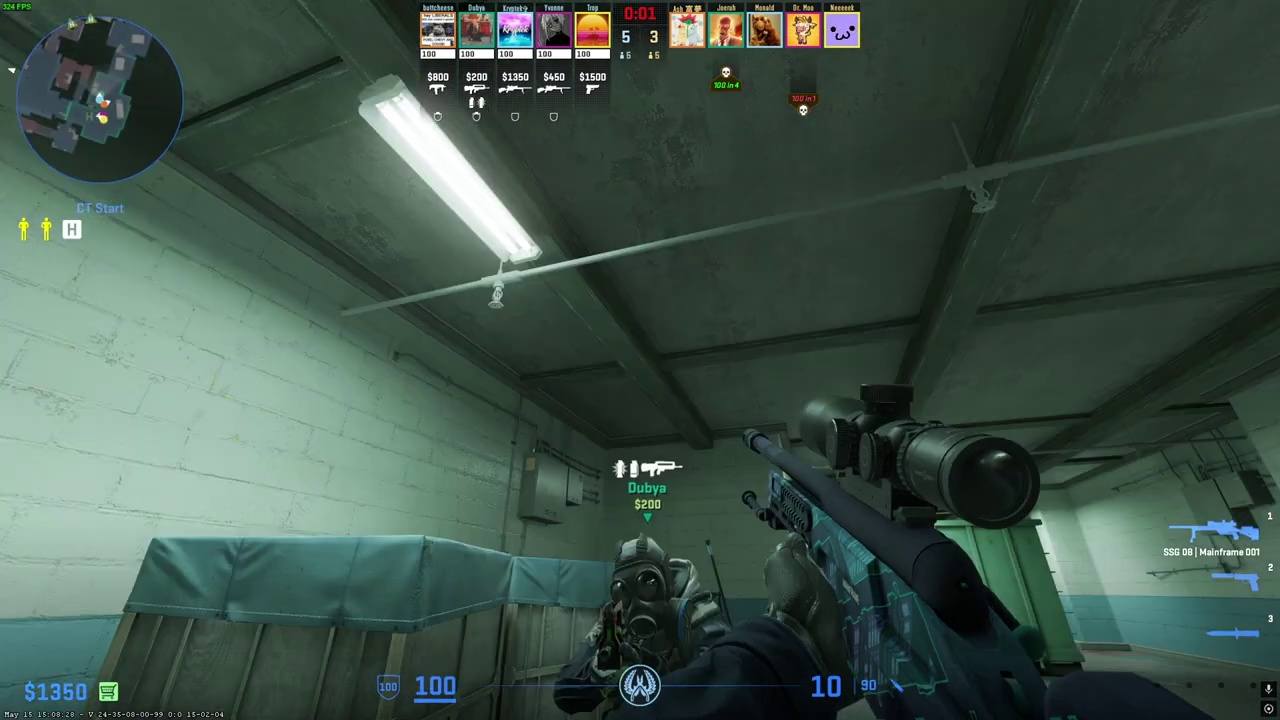CT: (565, 530, 733, 720)
